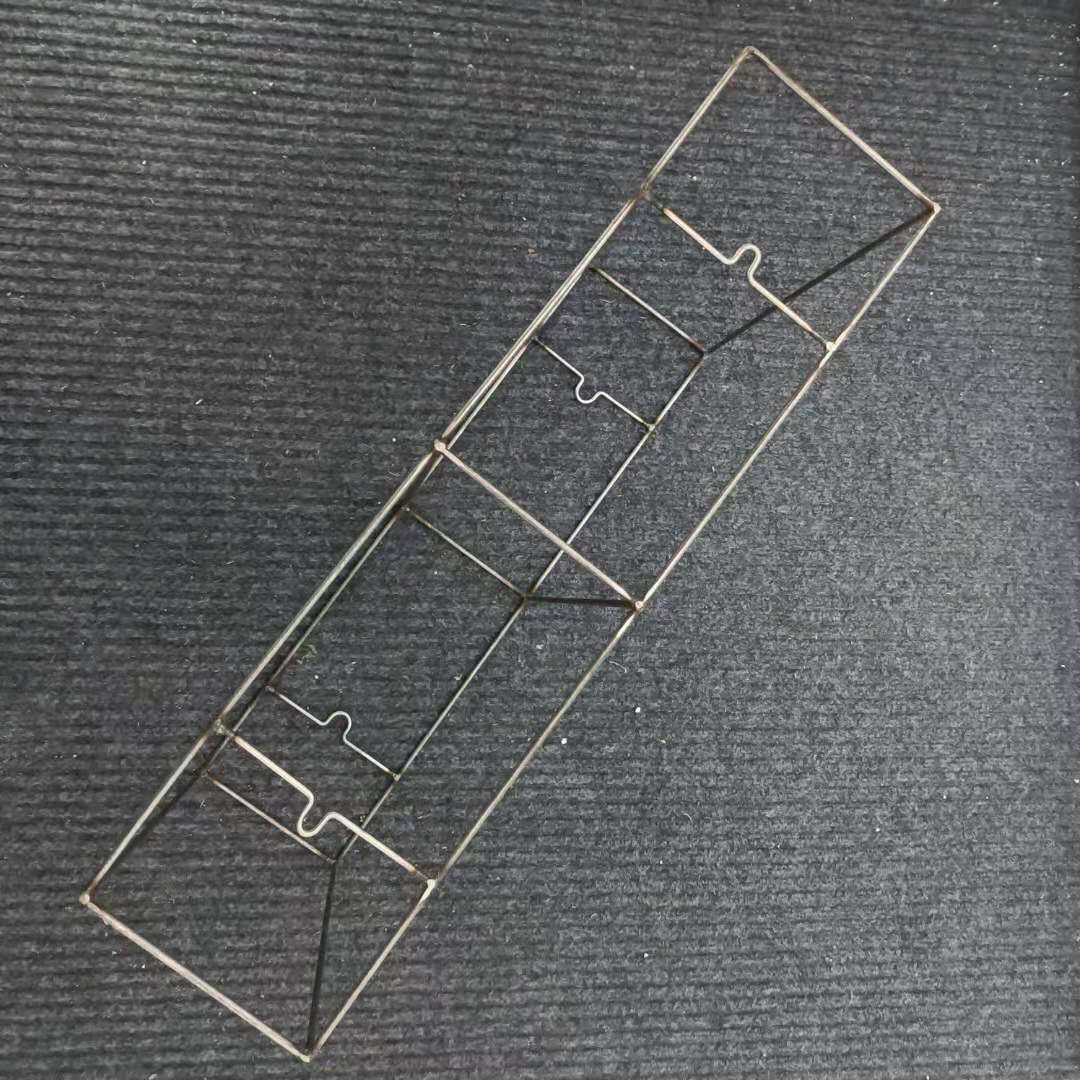curvedhole: (272, 774, 356, 859), (709, 239, 783, 305), (309, 701, 373, 755), (567, 361, 620, 419)
